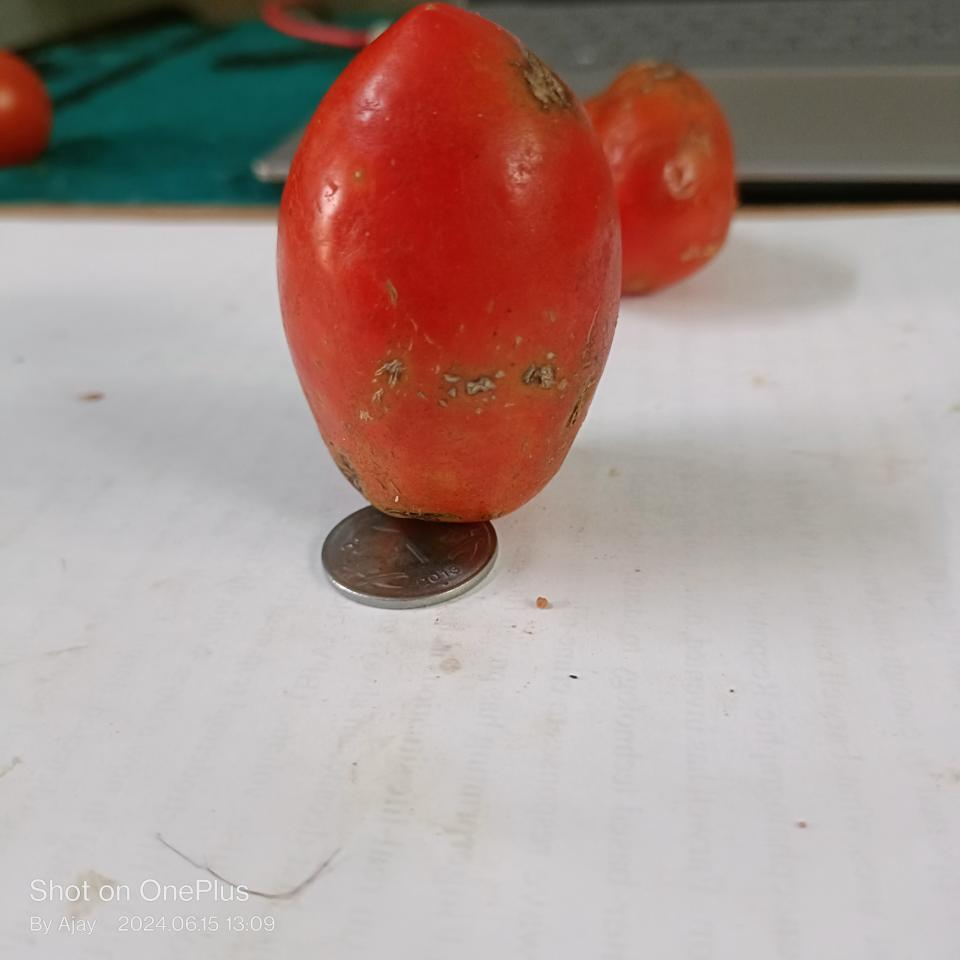Bacterial_Spot: (353, 344, 427, 403), (521, 50, 572, 117), (444, 361, 497, 422), (527, 349, 563, 399)
